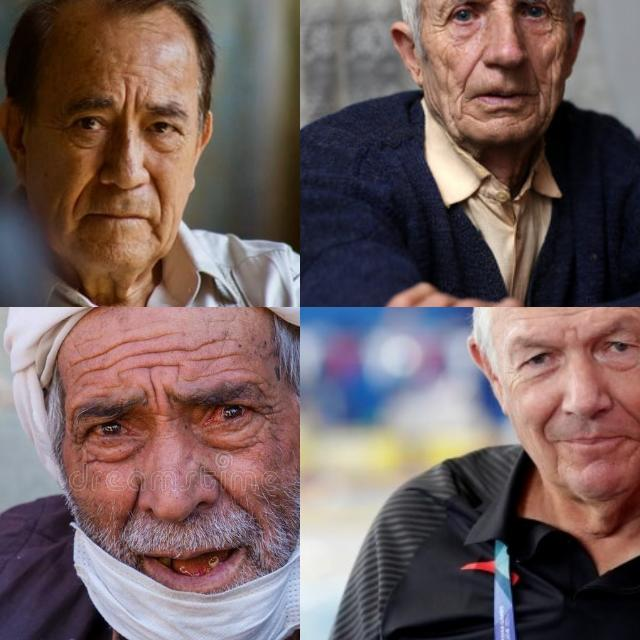chin: (453, 104, 483, 128), (508, 110, 532, 128), (548, 452, 566, 474)
crows_feet: (66, 427, 92, 461), (255, 396, 279, 428), (547, 1, 563, 32), (502, 364, 522, 388), (431, 12, 447, 36)
forehead: (200, 328, 244, 372), (161, 328, 197, 380), (118, 334, 152, 371), (70, 347, 108, 379), (105, 62, 153, 82), (547, 307, 585, 319), (509, 307, 542, 312)
frown_line: (116, 78, 142, 116), (558, 322, 582, 342), (488, 0, 511, 6)
gummy_smile: (216, 472, 250, 514), (68, 168, 92, 210), (121, 485, 145, 525), (457, 54, 483, 90), (150, 174, 172, 216), (535, 407, 561, 438), (619, 399, 640, 430), (525, 59, 541, 89)
masseter: (424, 78, 438, 114), (546, 66, 556, 100)
sad_smile: (146, 219, 166, 245), (629, 434, 640, 464)
